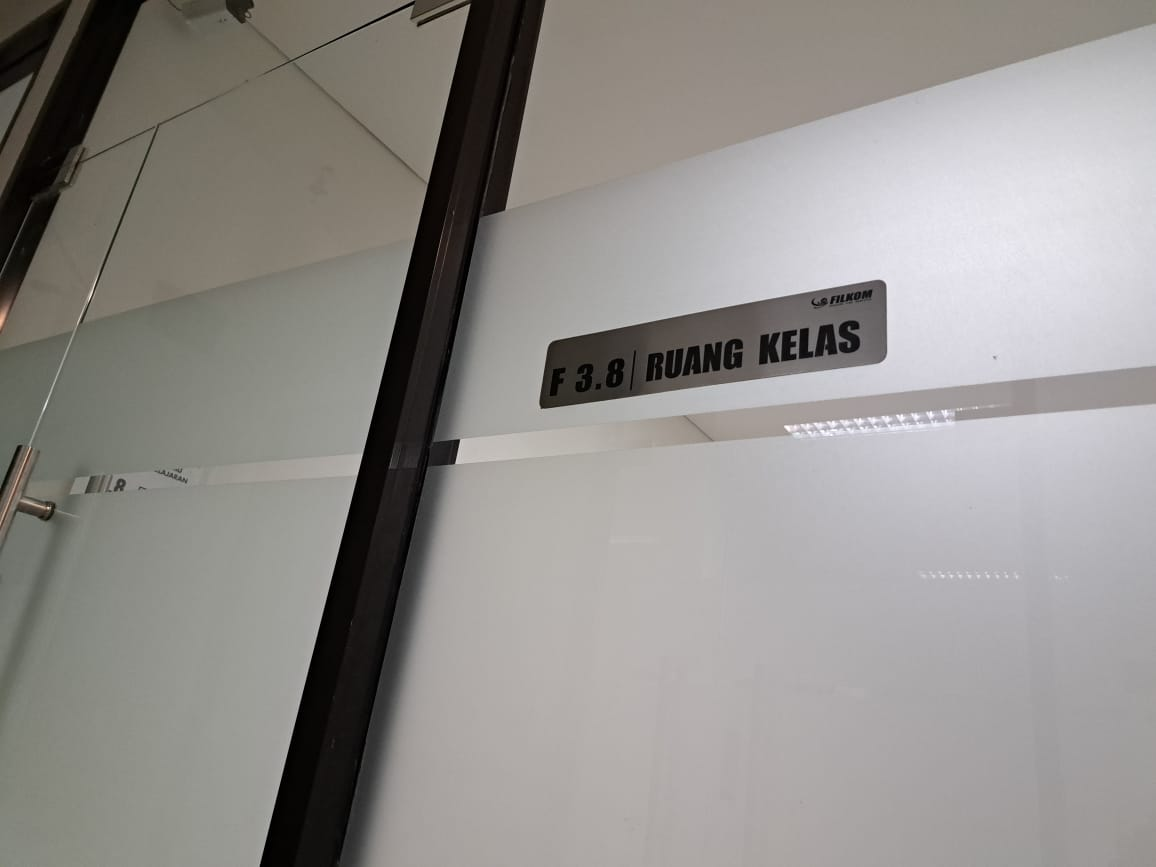ruangan: (536, 274, 897, 417)
